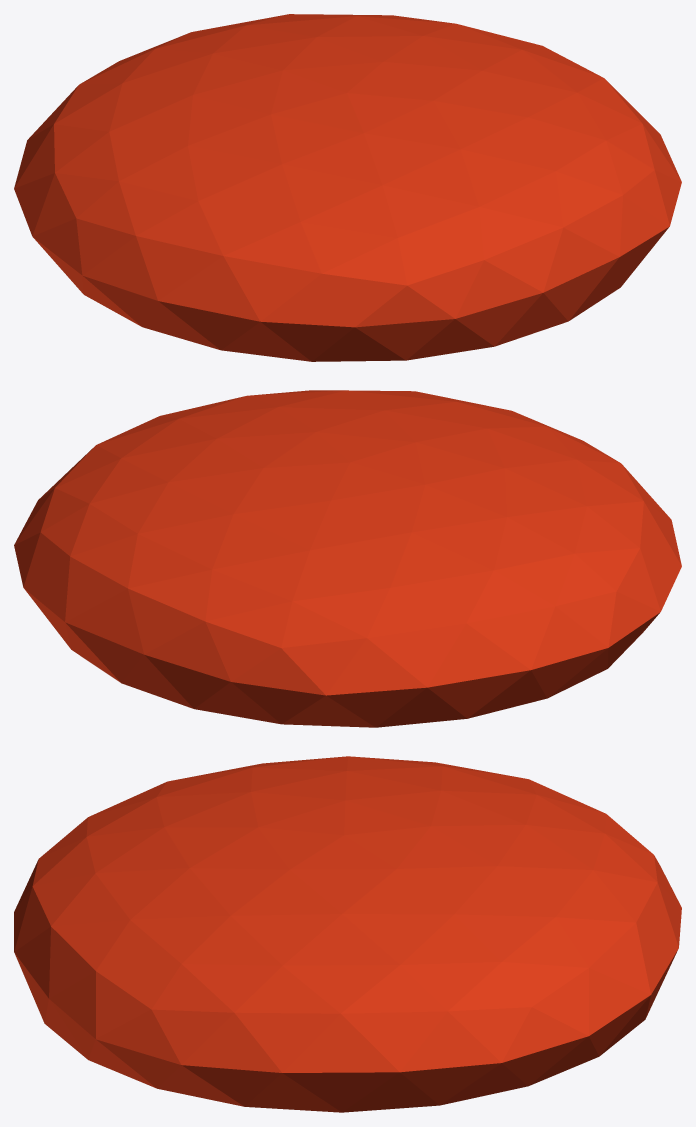
Rendered from meat.fbx.
3 renders of one model, top to bottom at view 1: azimuth 30°, elevation 25°; view 2: azimuth 150°, elevation 25°; view 3: azimuth 270°, elevation 25°, orthographic. The views are drawn at different scales.
Visible parts, largest first — view 1: Meat; view 2: Meat; view 3: Meat.
Part boxes in pixels (left/top/right/bottom): Meat: left=14, top=14, right=681, bottom=361; Meat: left=14, top=390, right=681, bottom=727; Meat: left=14, top=756, right=681, bottom=1112.
Size of the model in its own units: 36.3 by 8.67 by 35.14.
